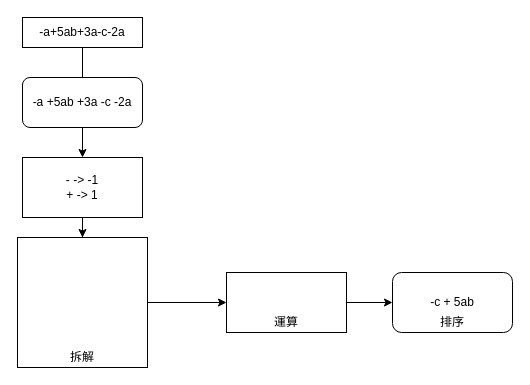
The diagram is 530 pixels wide and 385 high, and some of its shapes have lost their labels. The box of each missing label's shape, as (x1, y1, x2, y2) in pixels:
a [-1 +3 -2] ab [+5] c [-1]: (16, 236, 148, 368)
ab +5 c -1: (226, 272, 346, 332)
